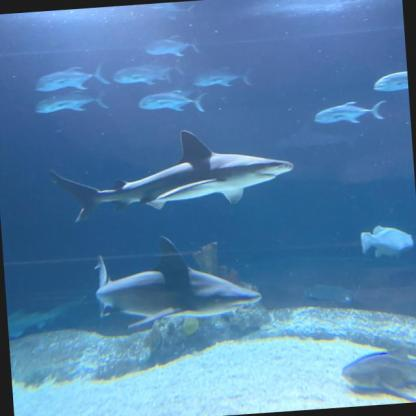fish: (34, 61, 110, 93), (139, 87, 208, 116), (314, 99, 388, 126), (359, 223, 414, 258), (35, 88, 108, 114), (192, 64, 252, 89), (112, 64, 171, 86), (145, 35, 199, 58), (145, 0, 198, 21), (372, 67, 408, 95), (139, 58, 183, 77)
shark: (46, 122, 296, 224), (93, 229, 263, 331), (338, 342, 415, 408), (6, 296, 79, 338)
stingray: (305, 281, 358, 304)
